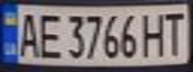3: (63, 10, 84, 60)
6: (118, 10, 142, 60), (103, 11, 124, 60)
7: (81, 11, 103, 60)
A: (12, 9, 42, 58)
E: (33, 9, 63, 60)
H: (139, 10, 169, 57)
T: (160, 8, 190, 56)
